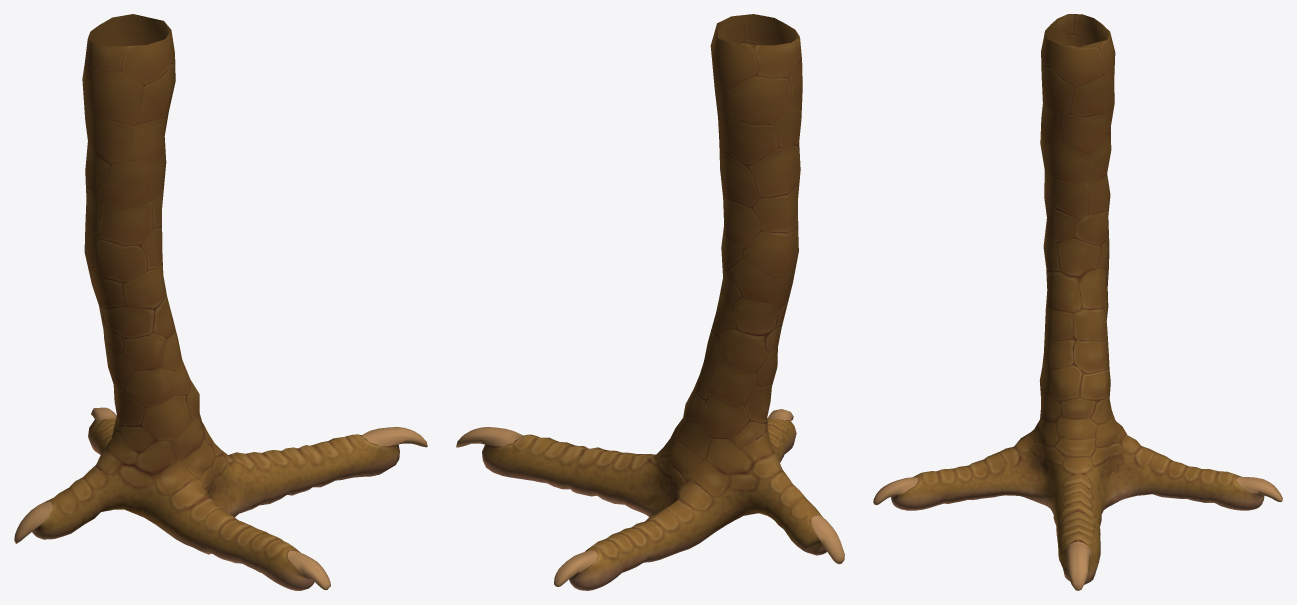
Rendered from m_ChickenLeg.fbx.
3 views of the same model, side by side, from view 1: azimuth 30°, elevation 25°; view 2: azimuth 150°, elevation 25°; view 3: azimuth 270°, elevation 25° (orthographic). The views are drawn at different scales.
Visible parts, largest first — view 1: ChickenLeg_Low; view 2: ChickenLeg_Low; view 3: ChickenLeg_Low.
Boxes of the visible parts, left/top/right/bottom form: ChickenLeg_Low: left=14, top=14, right=427, bottom=590; ChickenLeg_Low: left=456, top=14, right=844, bottom=590; ChickenLeg_Low: left=873, top=14, right=1282, bottom=590.
Size of the model in its own units: 629 by 761 by 632.
1 material, 1 textured.
